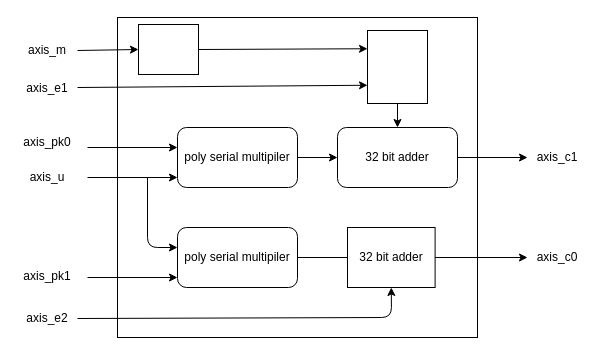
This 604x355 diagram has some shape labels left out. The box of each missing label's shape, as (x1, y1, x2, y2) in pixels:
8 bit- add: (366, 30, 428, 104)
left shift -24 bits: (138, 24, 198, 74)
